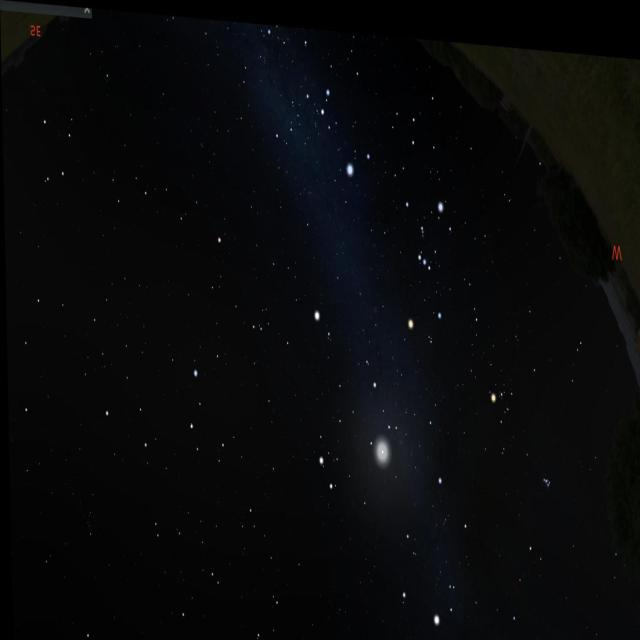canis_major: (316, 73, 377, 179)
canis_minor: (306, 272, 338, 354)
gemini: (306, 335, 412, 510)
leo: (82, 337, 243, 500)
moon: (366, 422, 402, 481)
orion: (395, 183, 457, 337)
pleiades: (536, 452, 557, 482)
taurus: (476, 347, 561, 492)
